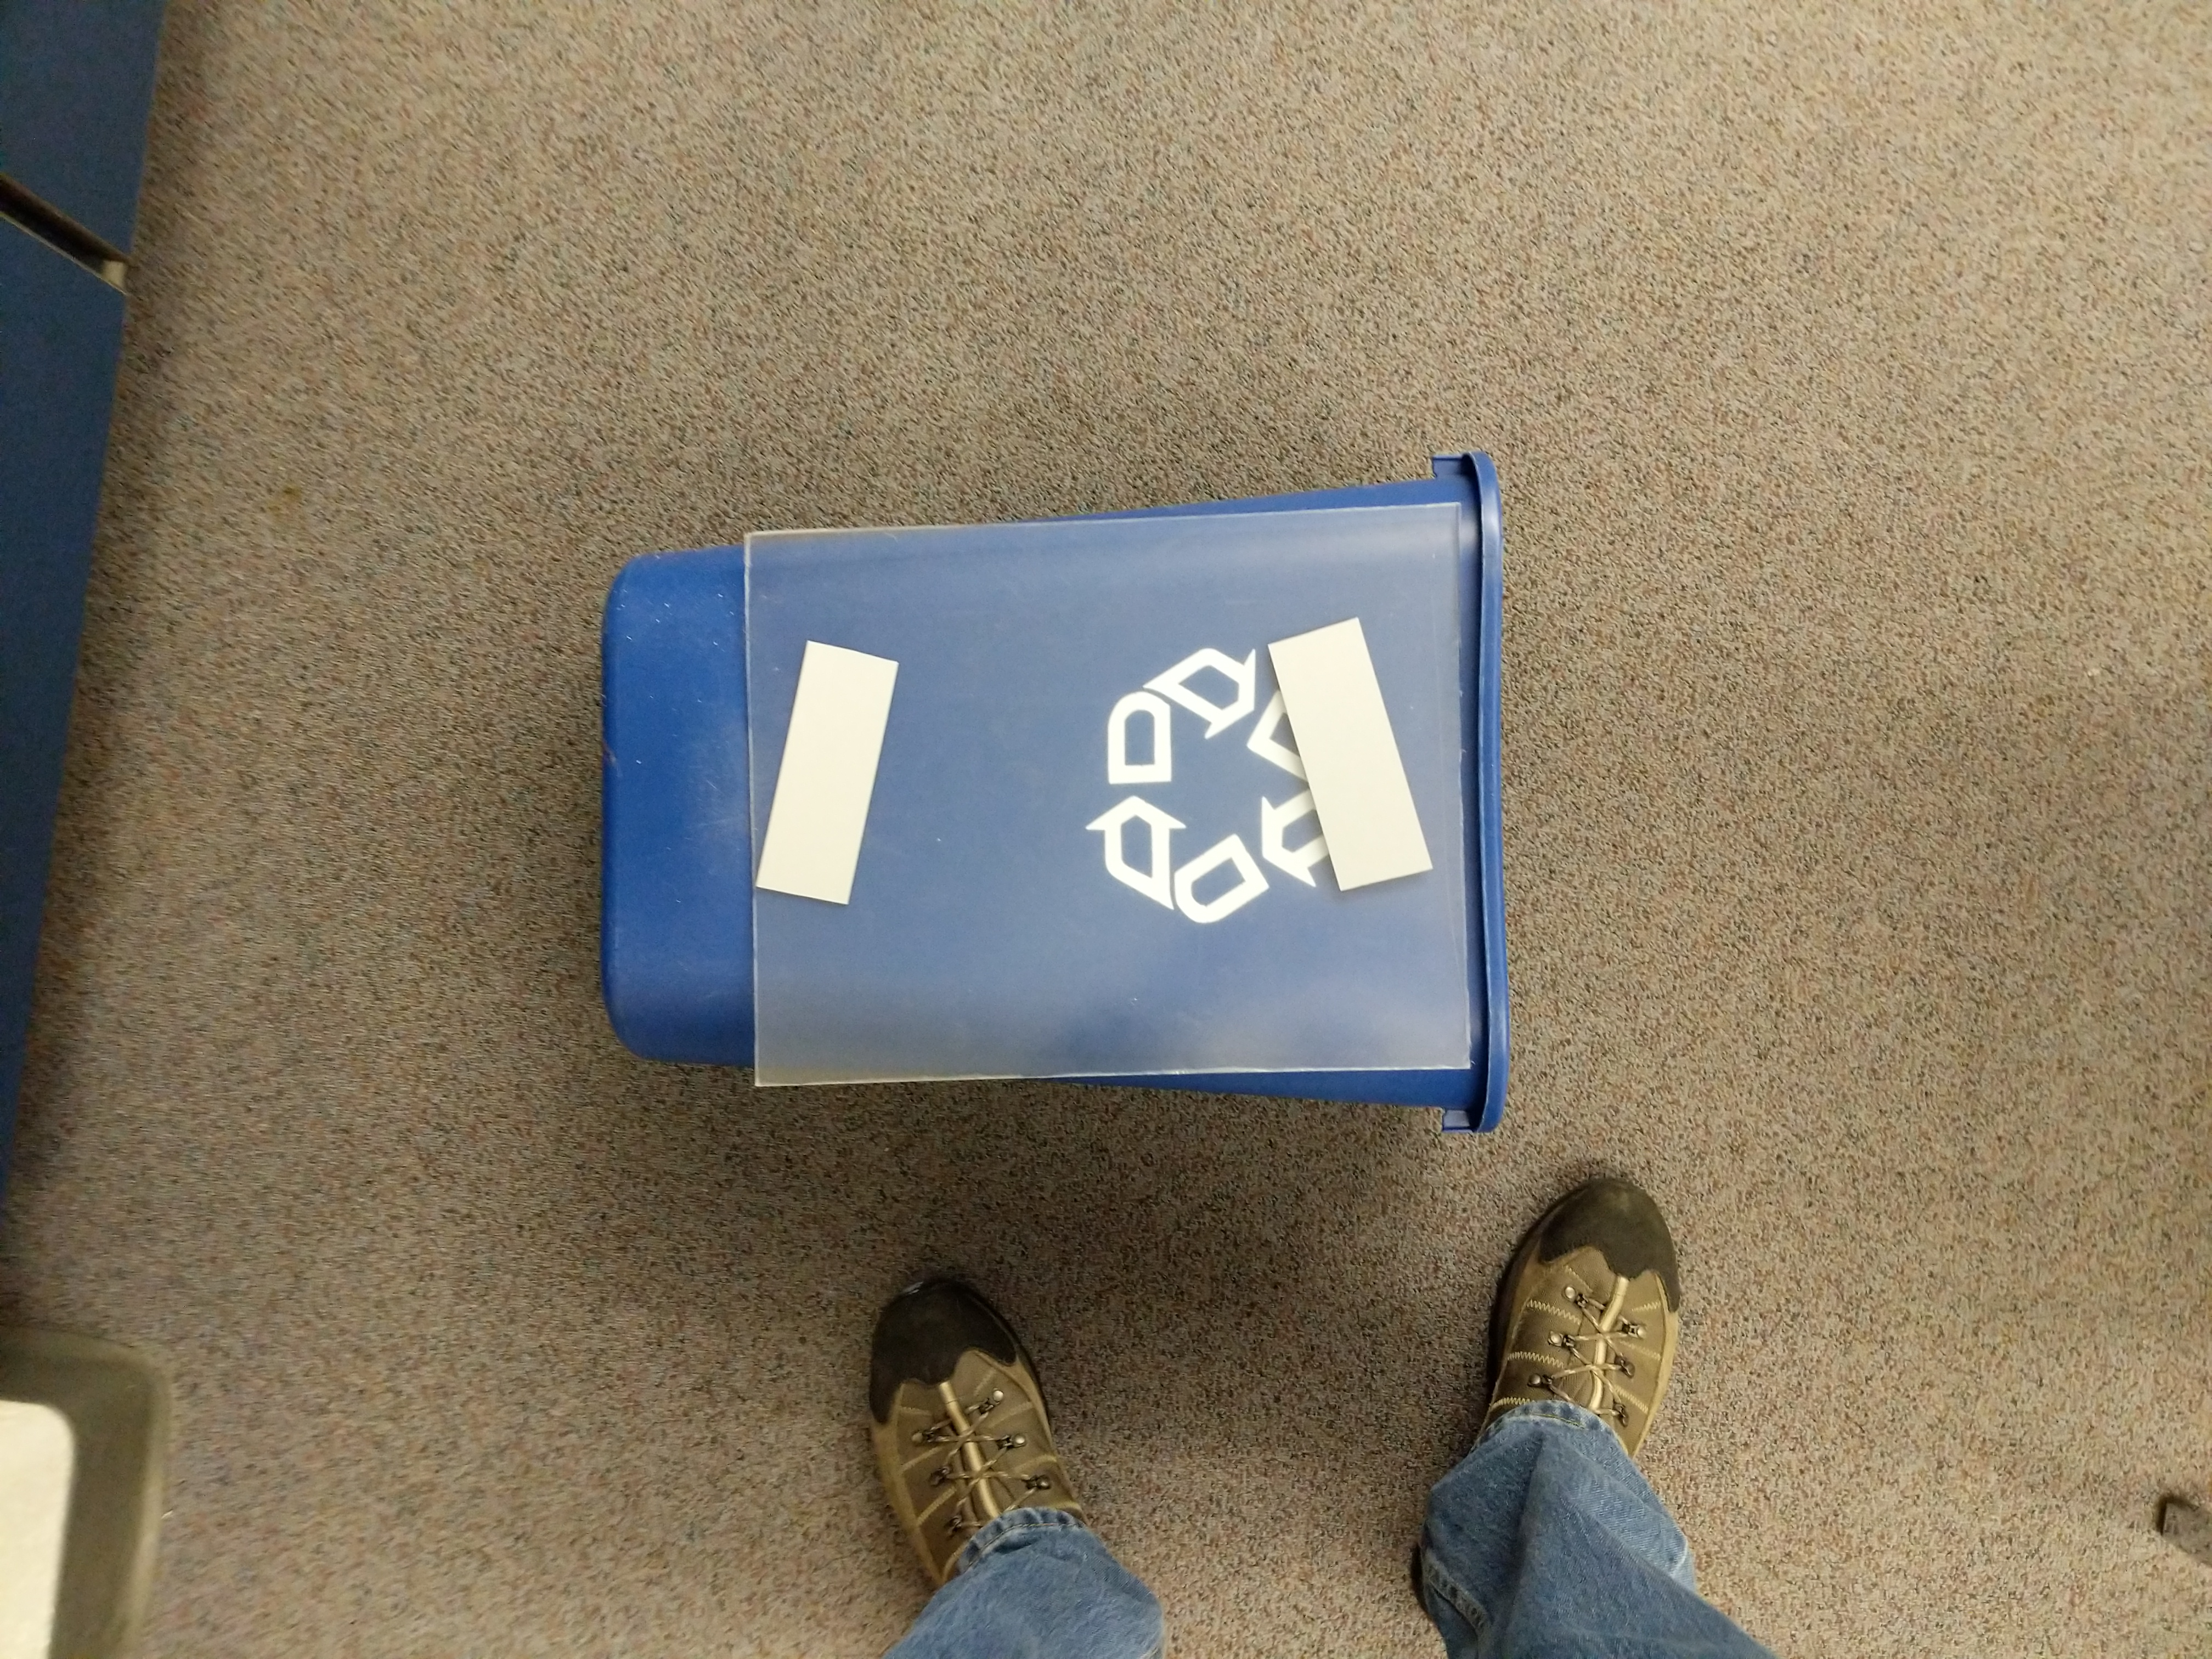vision_target: (745, 620, 1428, 906)
